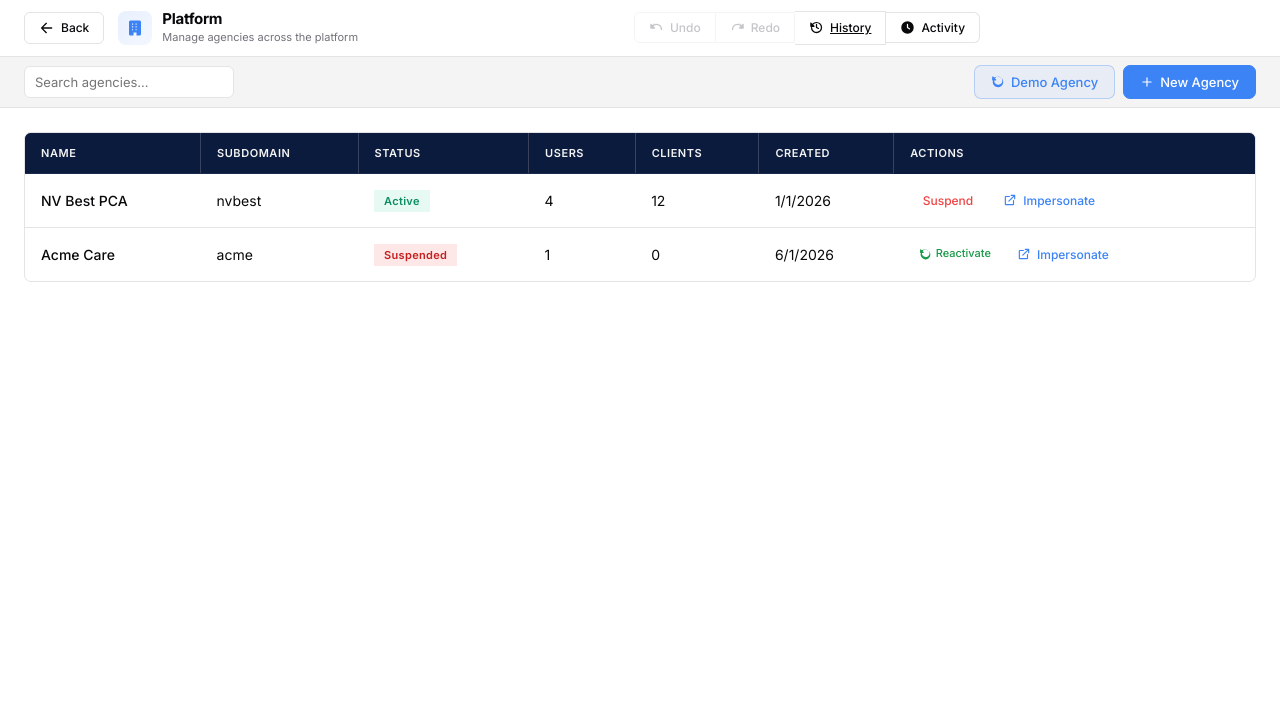
Scenario: demo agency button does not provision until the wipe is confirmed
Expected: the text "NV Best PCA" is shown, [25,174,200,227]
Click the button "Demo Agency" at (1045, 82), box [974,64,1115,99]
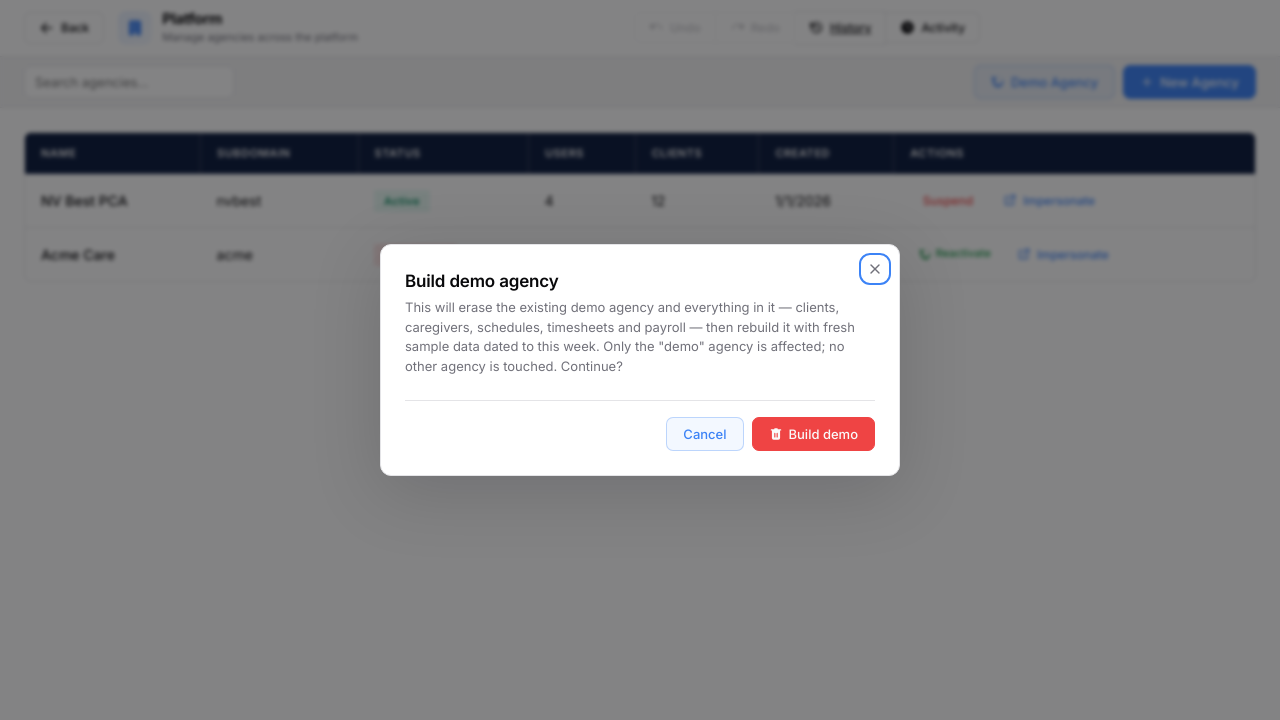
Expected: the text "erase" is shown, [405,299,855,374]
